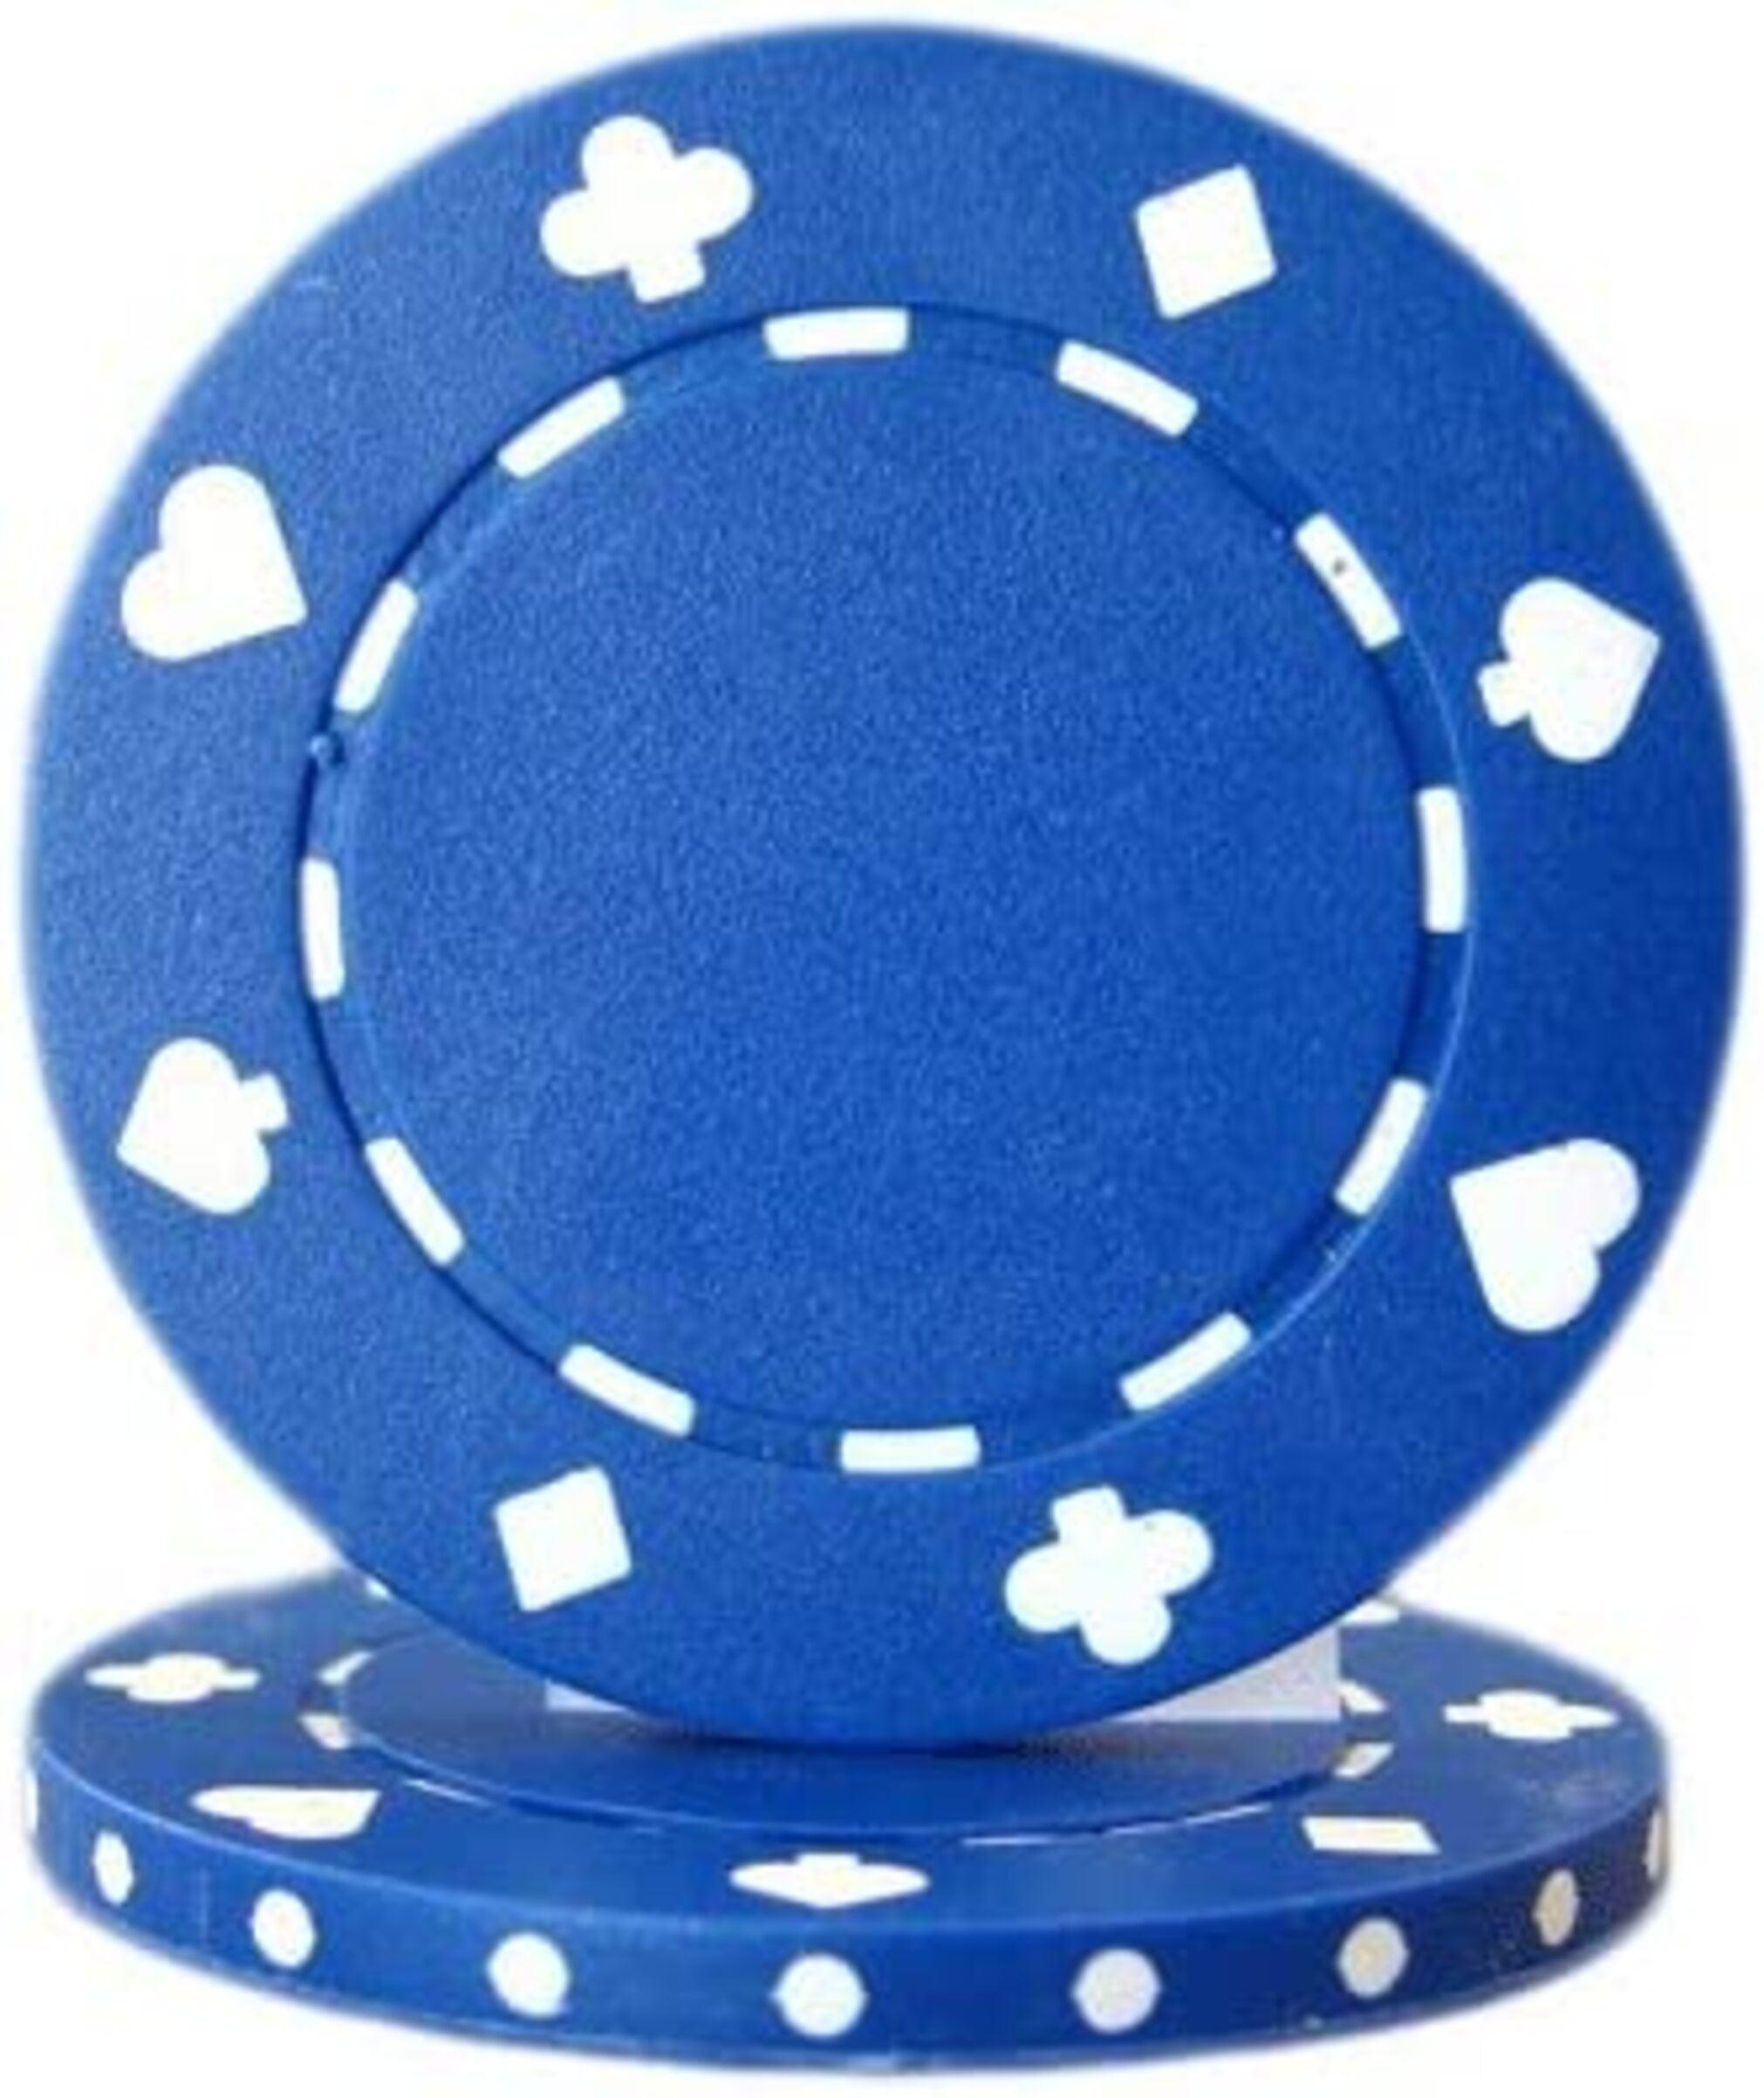chip-blue: (28, 28, 1734, 1746), (33, 1573, 1668, 2063)
